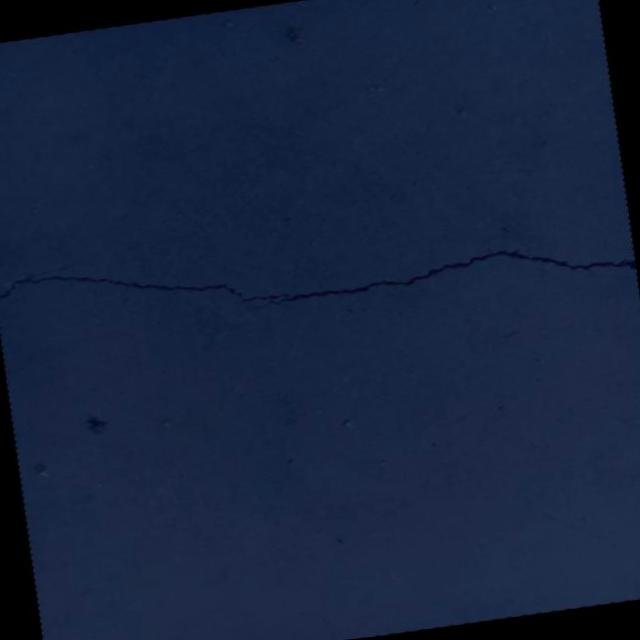crack: (0, 183, 638, 356)
